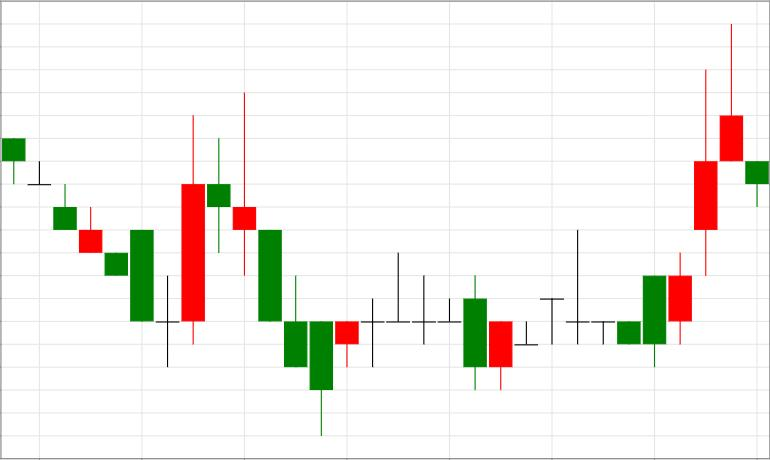morning_star_rise: (2, 116, 204, 367)
shooting_star_fall: (566, 22, 742, 367)
